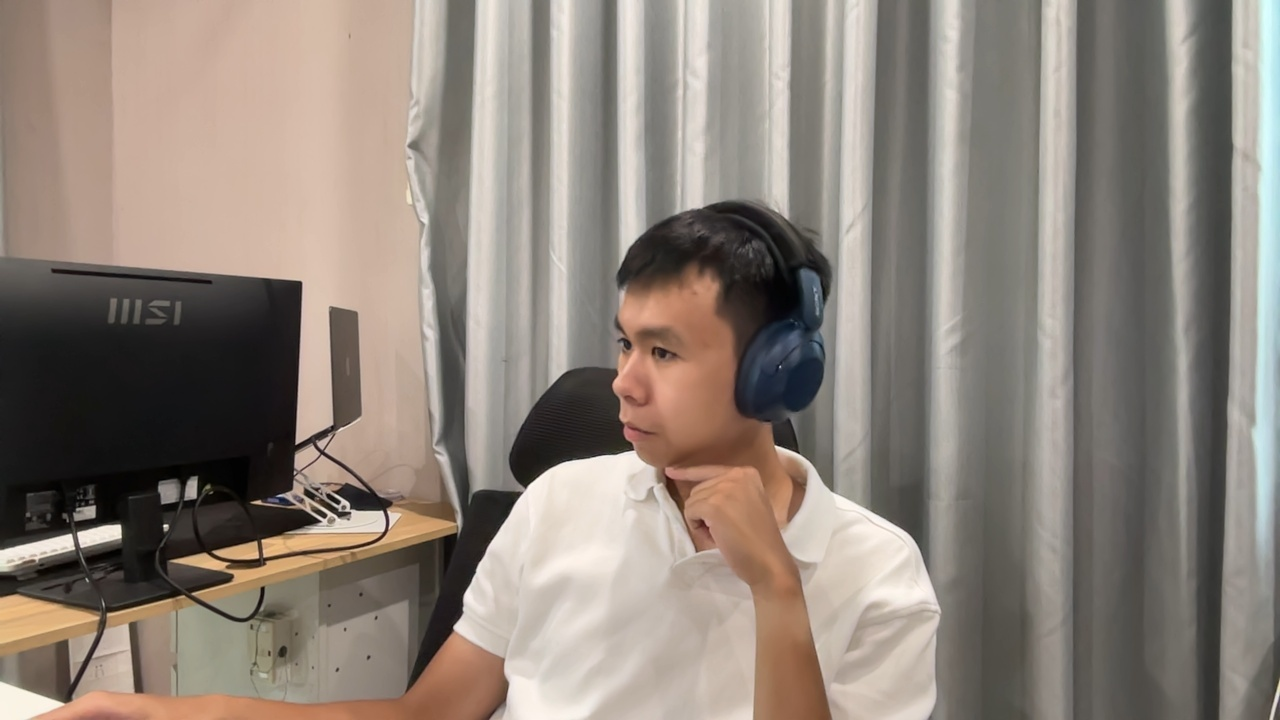over_ear: (699, 199, 832, 426), (722, 199, 833, 425), (732, 259, 830, 425), (731, 261, 830, 425)
